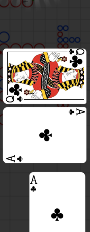AC: (29, 174, 38, 194), (67, 108, 85, 117)
